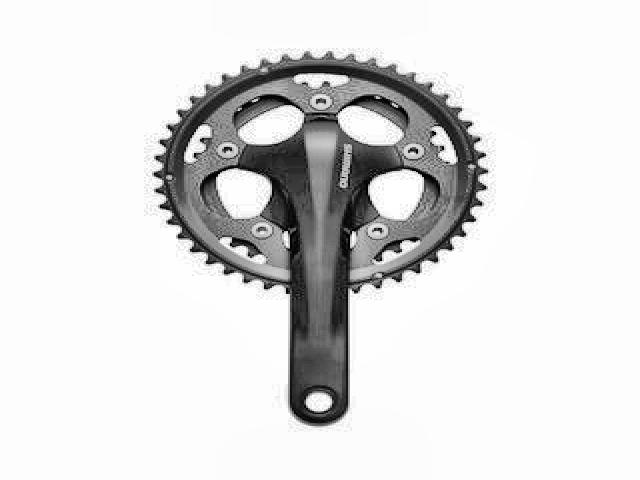cranks_set: (150, 48, 493, 430)
